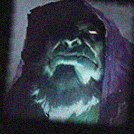Yorick: (1, 1, 133, 125)
